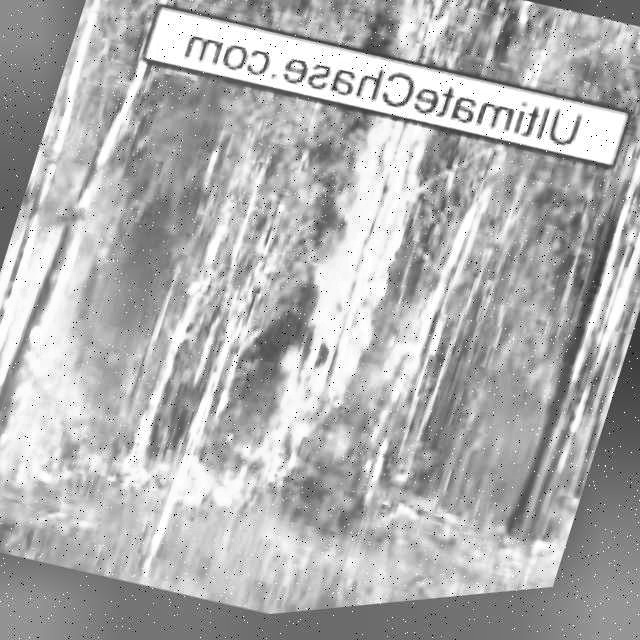Fire: (276, 116, 429, 417), (119, 360, 327, 545), (384, 0, 454, 62)
